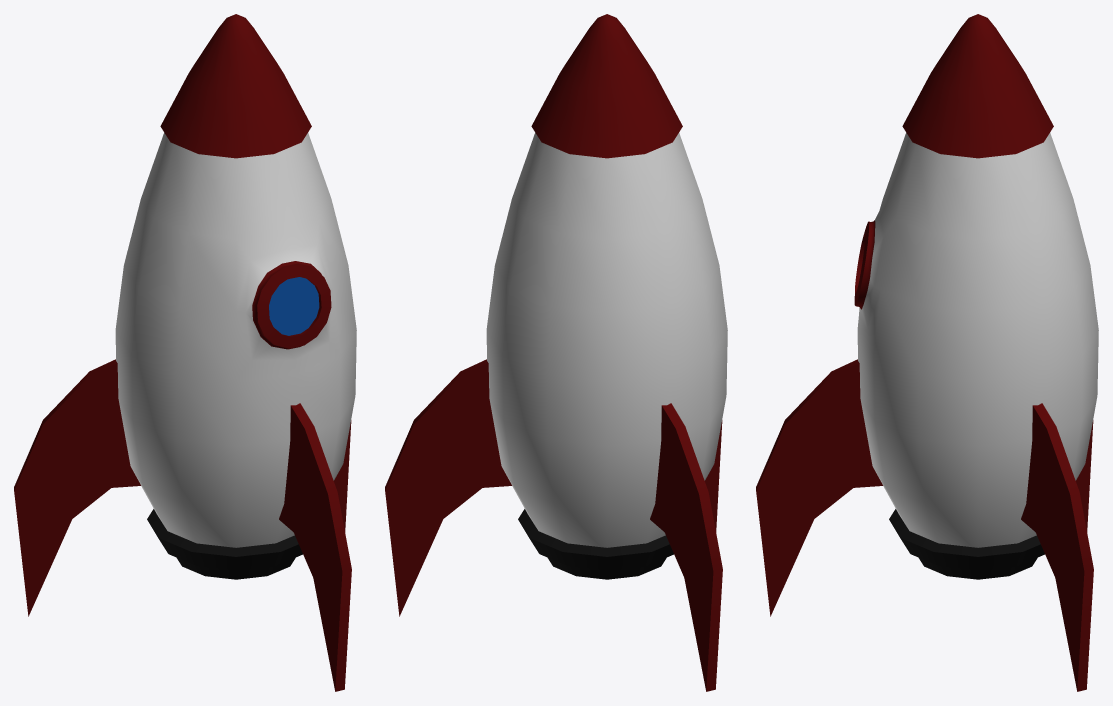
File: Rocket_Toy_v1.fbx
3 renders of one model, left to right at view 1: azimuth 30°, elevation 25°; view 2: azimuth 150°, elevation 25°; view 3: azimuth 270°, elevation 25°, orthographic.
Visible parts, largest first — view 1: Rocket_Toy; view 2: Rocket_Toy; view 3: Rocket_Toy.
Boxes of the visible parts, bbox=[...] form: Rocket_Toy: bbox=[14, 14, 356, 691]; Rocket_Toy: bbox=[385, 14, 727, 691]; Rocket_Toy: bbox=[756, 14, 1098, 691].
Size of the model in its own units: 354 by 601 by 311.
